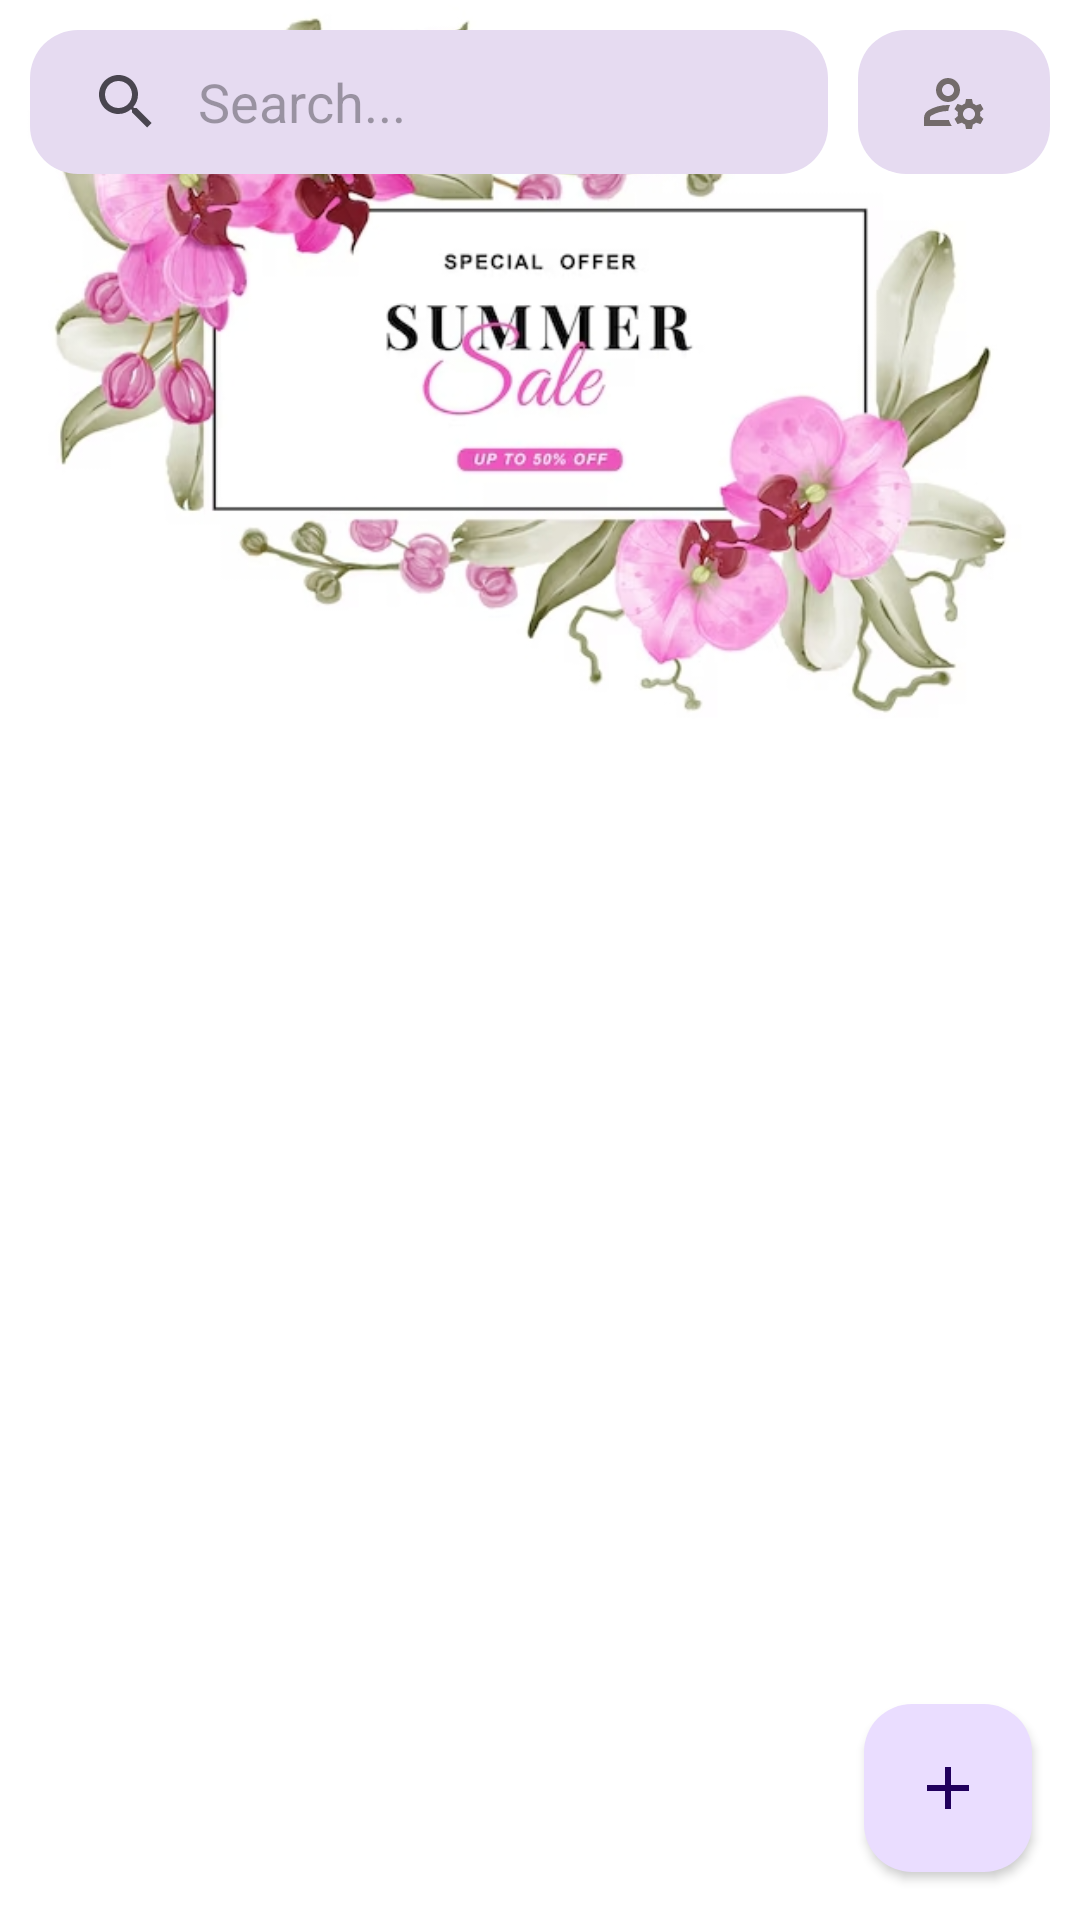

Locate icon controls on the screen. Image size 1080x1920, boxes as detection(x1, y1, x2, y2).
home account: detection(924, 78, 984, 129)
